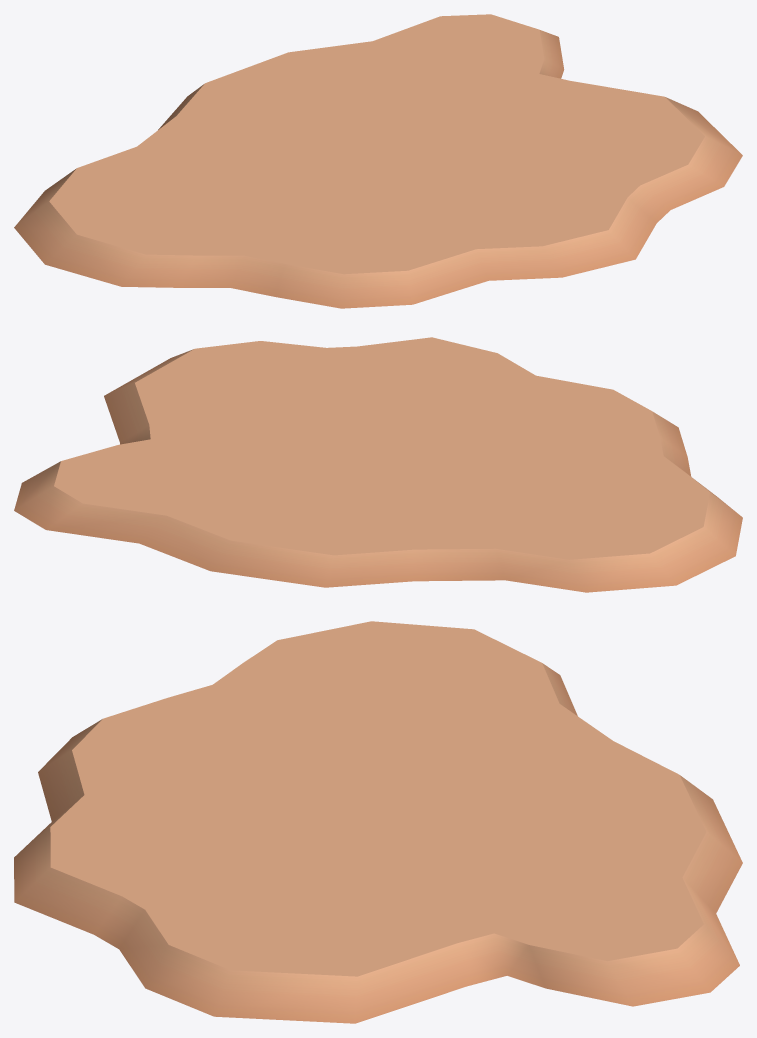
The model's file is patch-sand.glb.
3 views of the same model, one above another, from view 1: azimuth 30°, elevation 25°; view 2: azimuth 150°, elevation 25°; view 3: azimuth 270°, elevation 25° (orthographic). The views are drawn at different scales.
Parts seen in each view (by area): view 1: patch-sand; view 2: patch-sand; view 3: patch-sand.
Boxes of the visible parts, x1=… form: patch-sand: x1=14, y1=14, x2=742, y2=308; patch-sand: x1=14, y1=337, x2=742, y2=592; patch-sand: x1=14, y1=621, x2=742, y2=1023.
Bounding box in the file's own units: 7.74 × 0.2503 × 6.04.
Materials: 1 (1 with a texture image).
